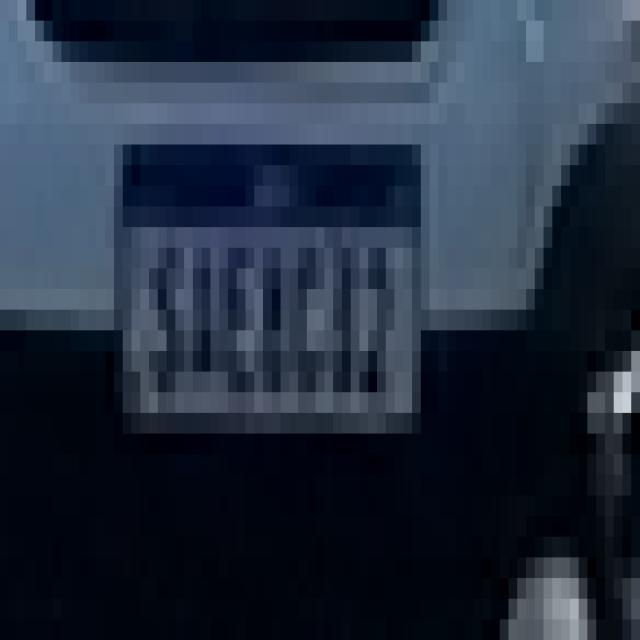Placa_mercosul_carro: (124, 159, 415, 431)
